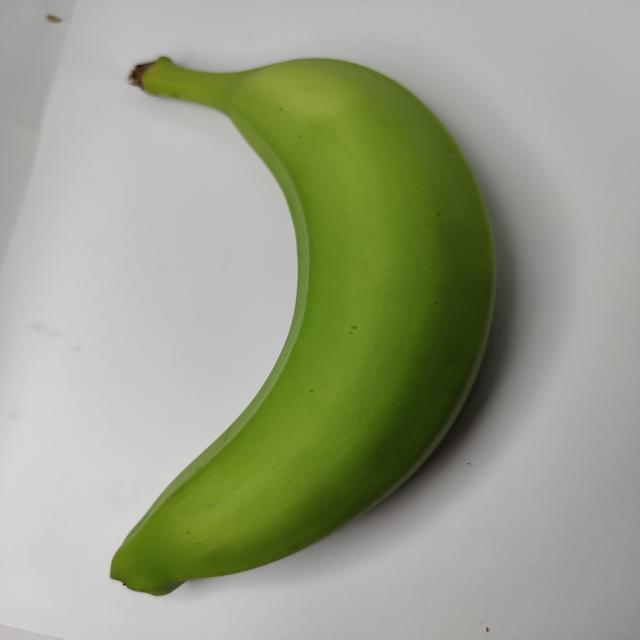raw: (56, 29, 548, 601)
